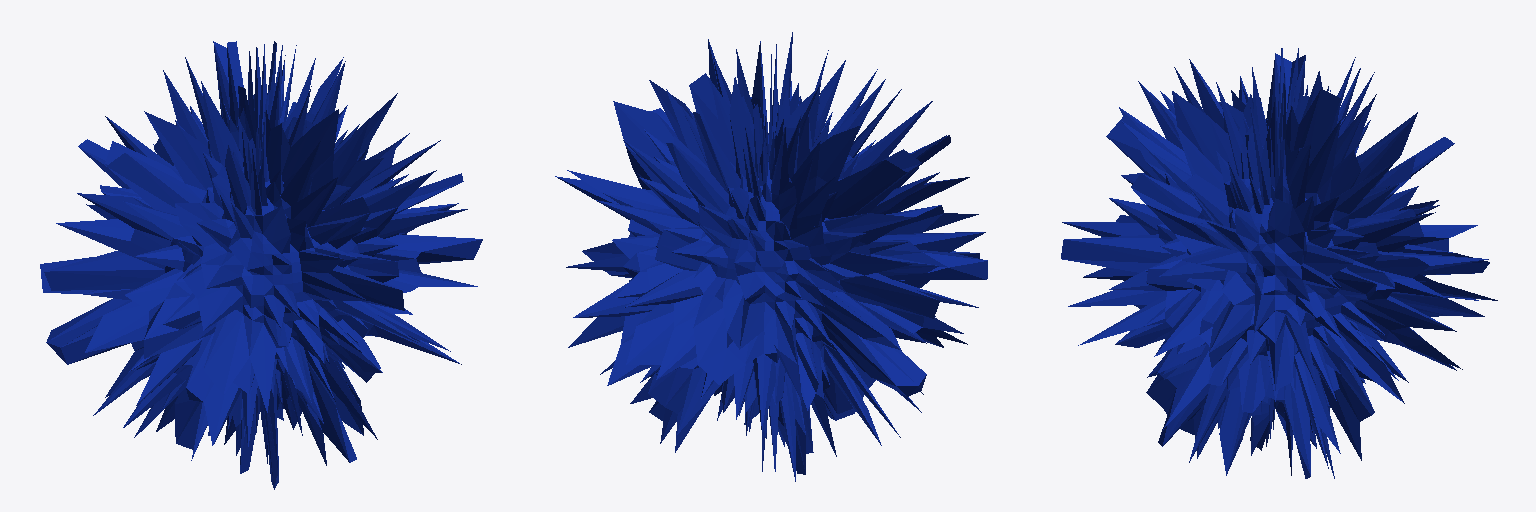
File: iris2.obj
The picture shows the model from 3 angles: view 1: azimuth 30°, elevation 25°; view 2: azimuth 150°, elevation 25°; view 3: azimuth 270°, elevation 25°; orthographic projection.
Parts seen in each view (by area): view 1: Iris_2; view 2: Iris_2; view 3: Iris_2.
Part boxes in pixels (left/top/right/bottom): Iris_2: left=40, top=41, right=482, bottom=489; Iris_2: left=555, top=32, right=987, bottom=481; Iris_2: left=1061, top=48, right=1497, bottom=478.
Size of the model in its own units: 1.54 by 1.55 by 1.53.